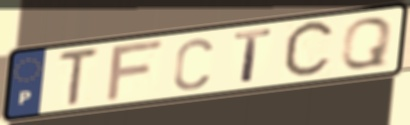C: (280, 16, 339, 83), (171, 36, 216, 93)
F: (102, 37, 167, 105)
Q: (338, 15, 396, 71)
T: (56, 46, 102, 109), (232, 26, 275, 85)
